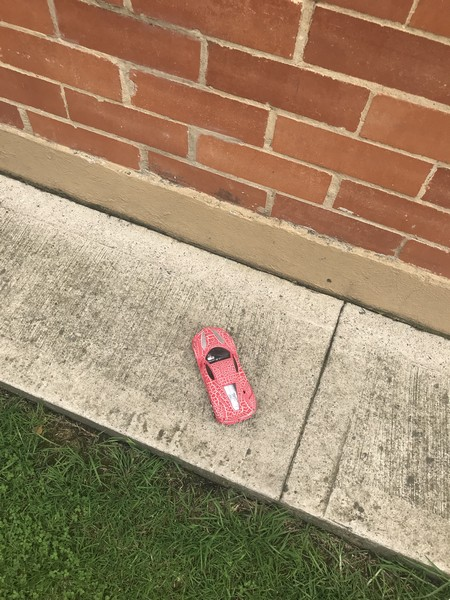RC: (188, 324, 262, 427)
